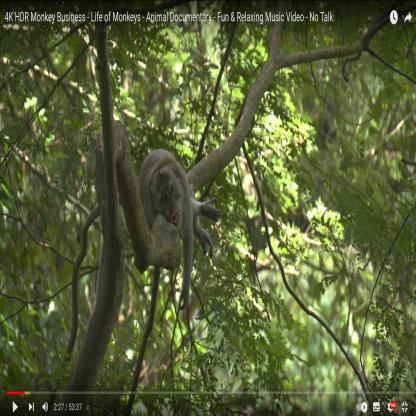monkey: (138, 144, 219, 312)
